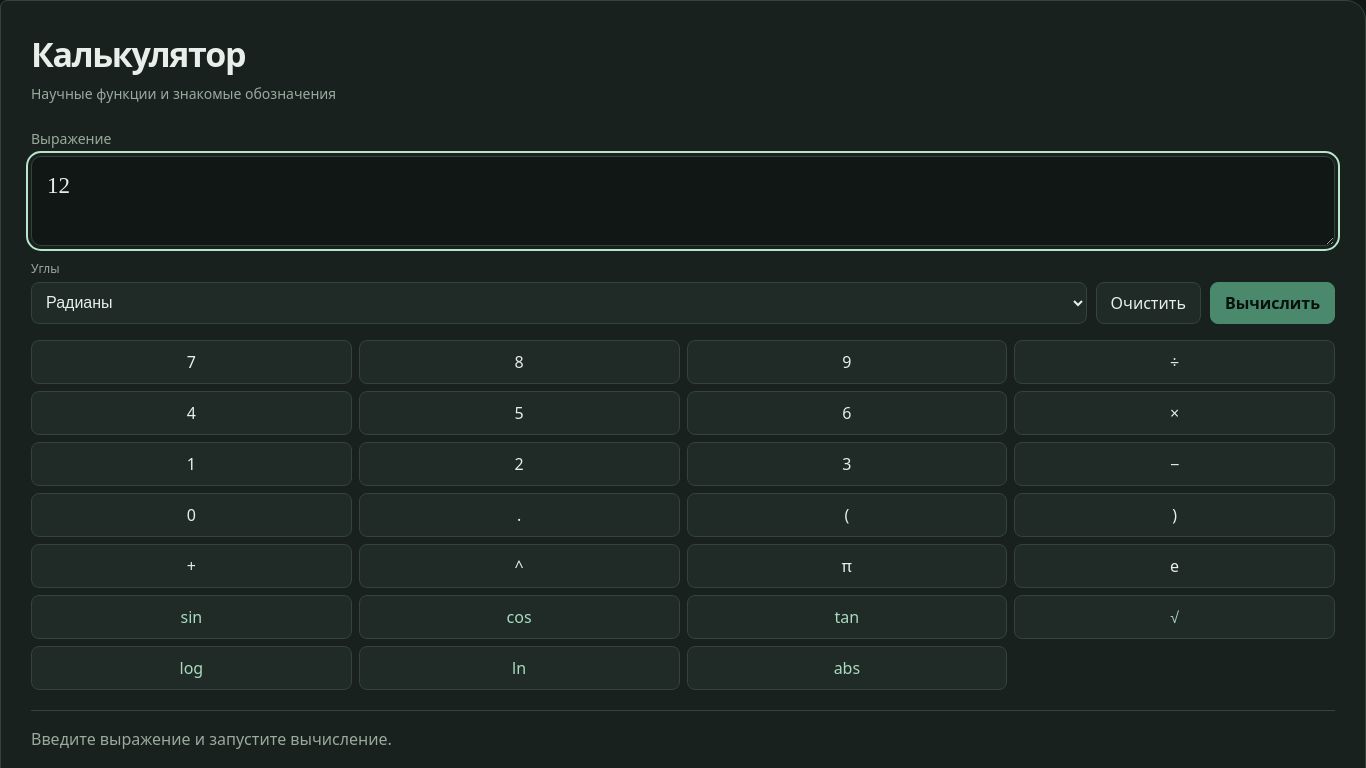
Test case: CalculatorView › inserts keypad input at the editor cursor
Click the button named "Вставить +" at (191, 566), box 31,544 -> 352,588
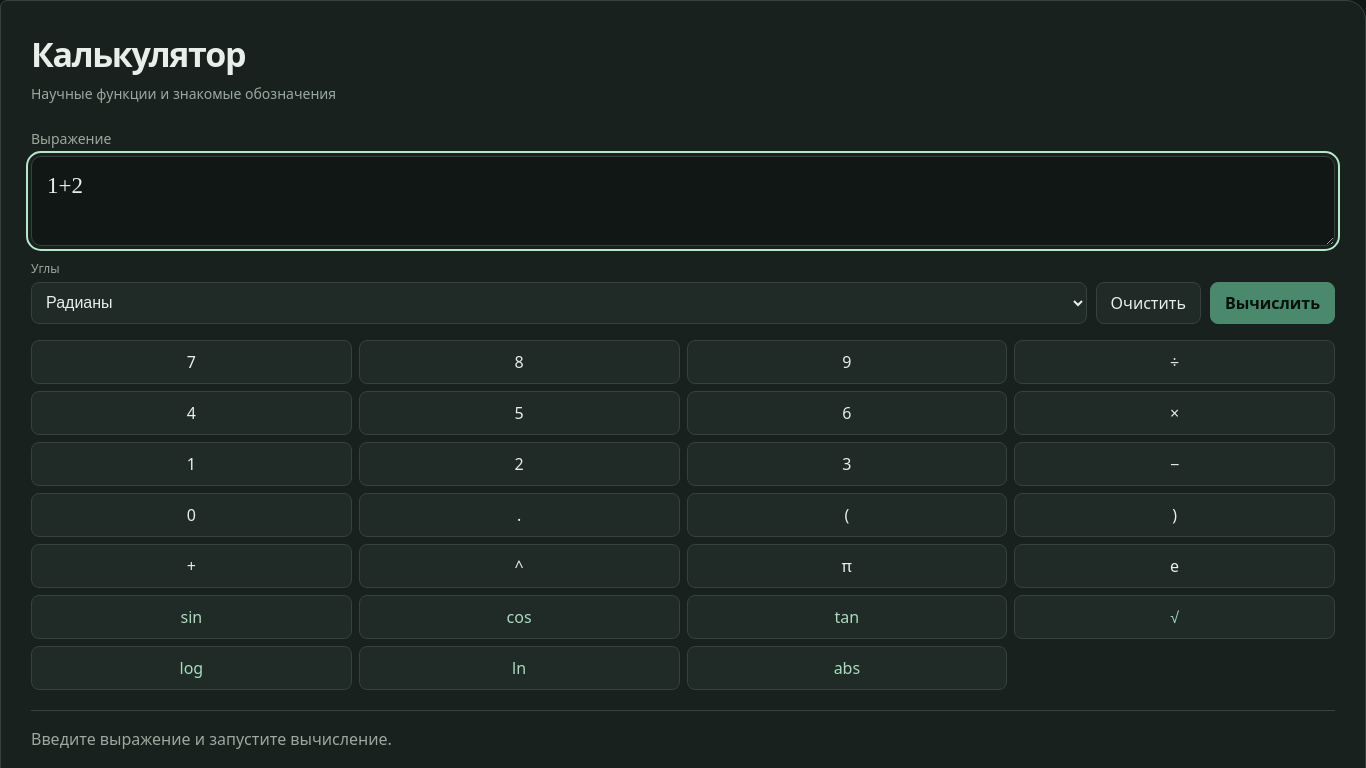
Now the text box named "математическое выражение" holds "1+2", box 31,156 -> 1335,246
